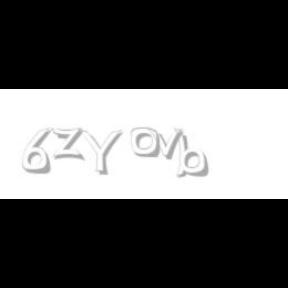6: (22, 128, 51, 176)
Y: (77, 128, 123, 176)
b: (174, 128, 212, 178)
o: (130, 128, 160, 158)
v: (147, 128, 187, 160)
z: (51, 128, 87, 160)
